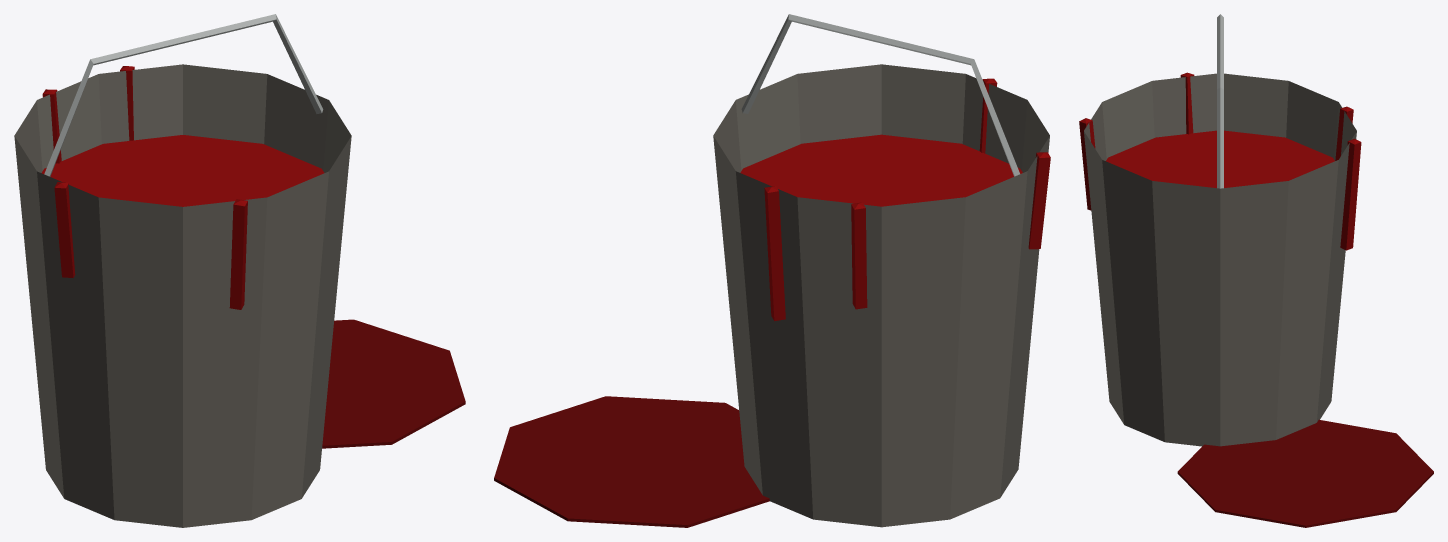
The model's file is blood_bucket.glb.
3 renders of one model, left to right at view 1: azimuth 30°, elevation 25°; view 2: azimuth 150°, elevation 25°; view 3: azimuth 270°, elevation 25°, orthographic. The views are drawn at different scales.
Parts seen in each view (by area): view 1: blood_bucket; view 2: blood_bucket; view 3: blood_bucket.
Boxes of the visible parts, <box> form: blood_bucket: <box>14,14,465,527</box>; blood_bucket: <box>494,14,1050,527</box>; blood_bucket: <box>1079,14,1433,527</box>.
Bounding box in the file's own units: 0.5132 × 0.4537 × 0.4155.
